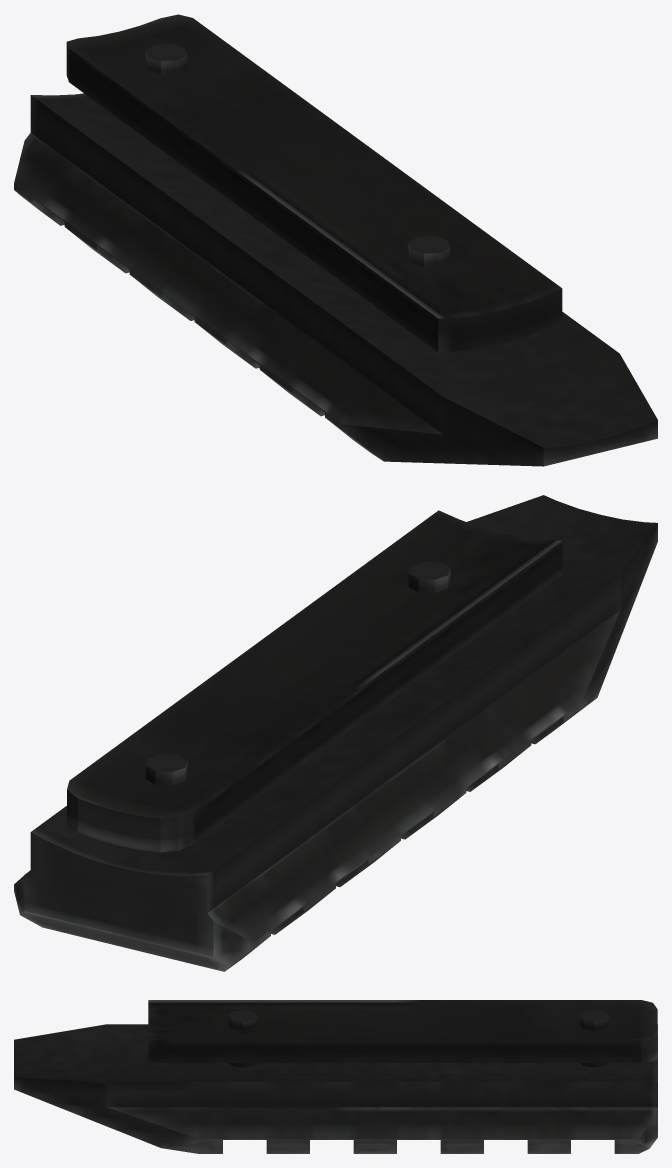
The picture shows the model from 3 angles, top to bottom: view 1: azimuth 30°, elevation 25°; view 2: azimuth 150°, elevation 25°; view 3: azimuth 270°, elevation 25°; orthographic projection. The views are drawn at different scales.
Parts seen in each view (by area): view 1: TW_6086b5392535c57a13424d70_PZ_Import; view 2: TW_6086b5392535c57a13424d70_PZ_Import; view 3: TW_6086b5392535c57a13424d70_PZ_Import.
Boxes of the visible parts, x1,y1,x2,y2 form: TW_6086b5392535c57a13424d70_PZ_Import: (14, 14, 657, 466); TW_6086b5392535c57a13424d70_PZ_Import: (14, 495, 657, 971); TW_6086b5392535c57a13424d70_PZ_Import: (14, 1000, 657, 1153).
Size of the model in its own units: 0.0123 by 0.0428 by 0.00795.
Materials: 1 (1 with a texture image).
